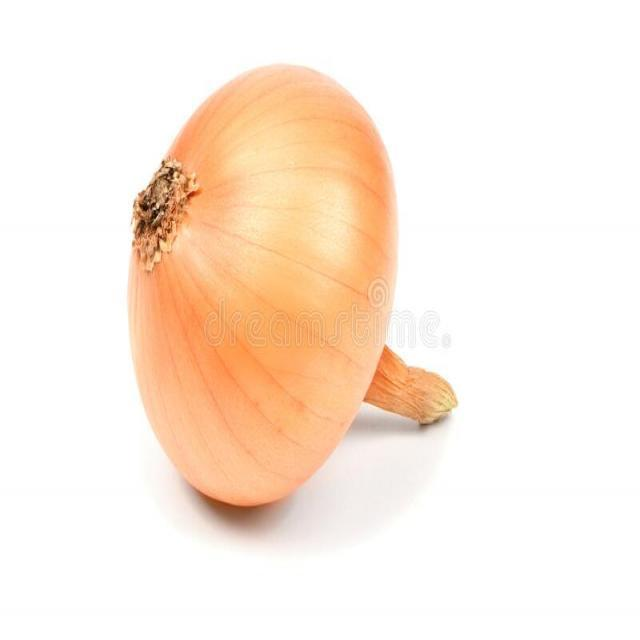Onion: (127, 64, 456, 509)
